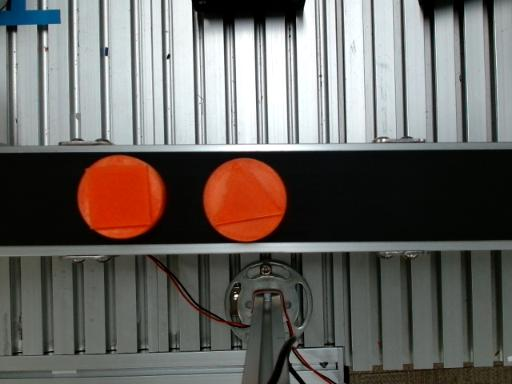Not_Square: (212, 159, 283, 227)
Orange_Waper: (78, 155, 166, 238), (203, 158, 287, 241)
Square: (86, 163, 153, 231)
